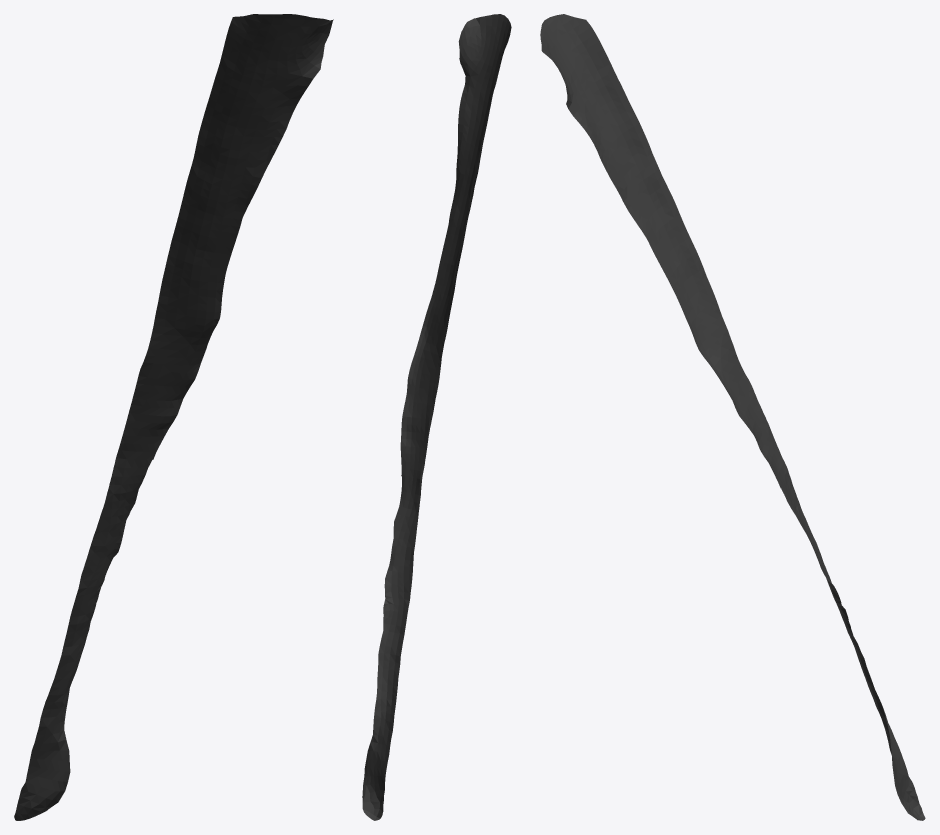
File: eq_dist_limb_Metacarpal_2.glb
3 views of the same model, side by side, from view 1: azimuth 30°, elevation 25°; view 2: azimuth 150°, elevation 25°; view 3: azimuth 270°, elevation 25° (orthographic). The views are drawn at different scales.
Visible parts, largest first — view 1: eq_dist_limb_Metacarpal_2; view 2: eq_dist_limb_Metacarpal_2; view 3: eq_dist_limb_Metacarpal_2.
Part boxes in pixels (left/top/right/bottom): eq_dist_limb_Metacarpal_2: left=14, top=14, right=333, bottom=820; eq_dist_limb_Metacarpal_2: left=362, top=14, right=511, bottom=820; eq_dist_limb_Metacarpal_2: left=540, top=14, right=925, bottom=820.
Size of the model in its own units: 0.00276 by 0.0244 by 0.0105.
Materials: 1 (1 with a texture image).
